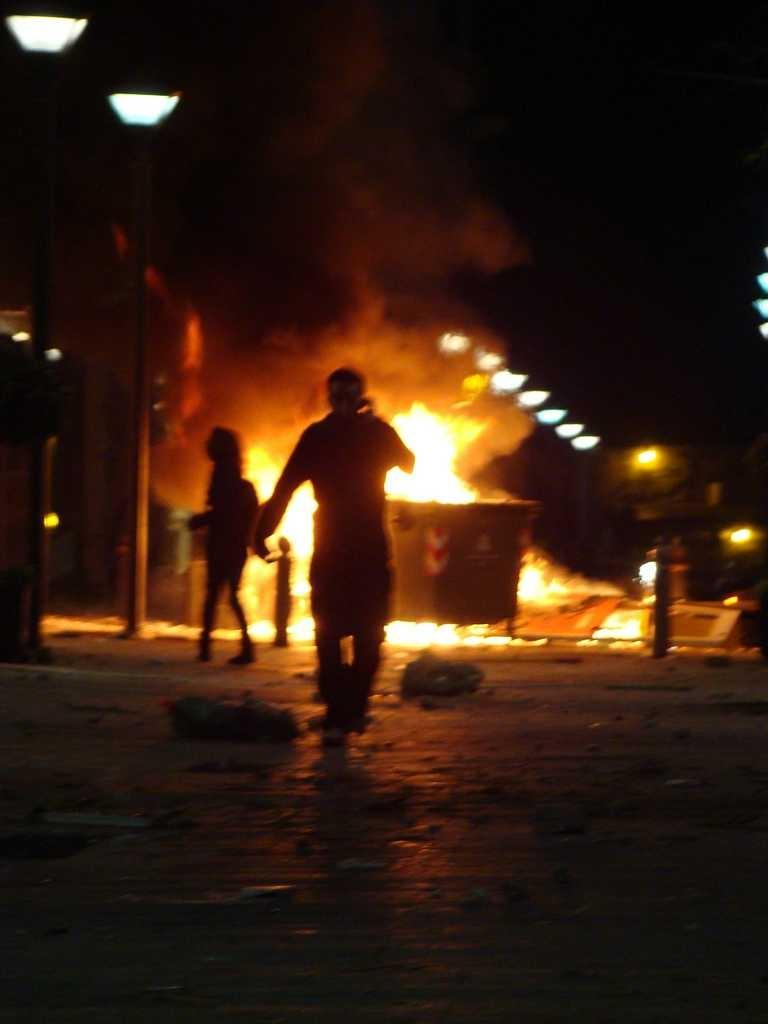fire: (287, 498, 315, 562), (388, 628, 468, 650)
